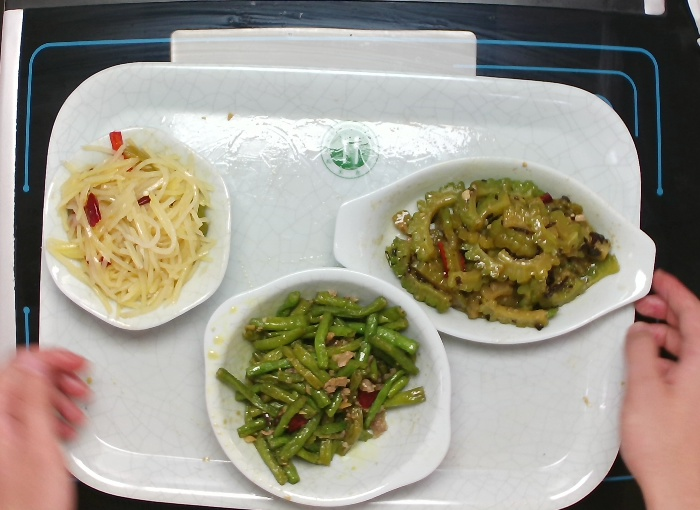JYsf-Shuang_Er_Wan: (195, 265, 461, 509)
JYsf-Yu_Pan: (330, 152, 659, 351)
WCQzf-Hua_Duo_Wan: (43, 121, 236, 337)
